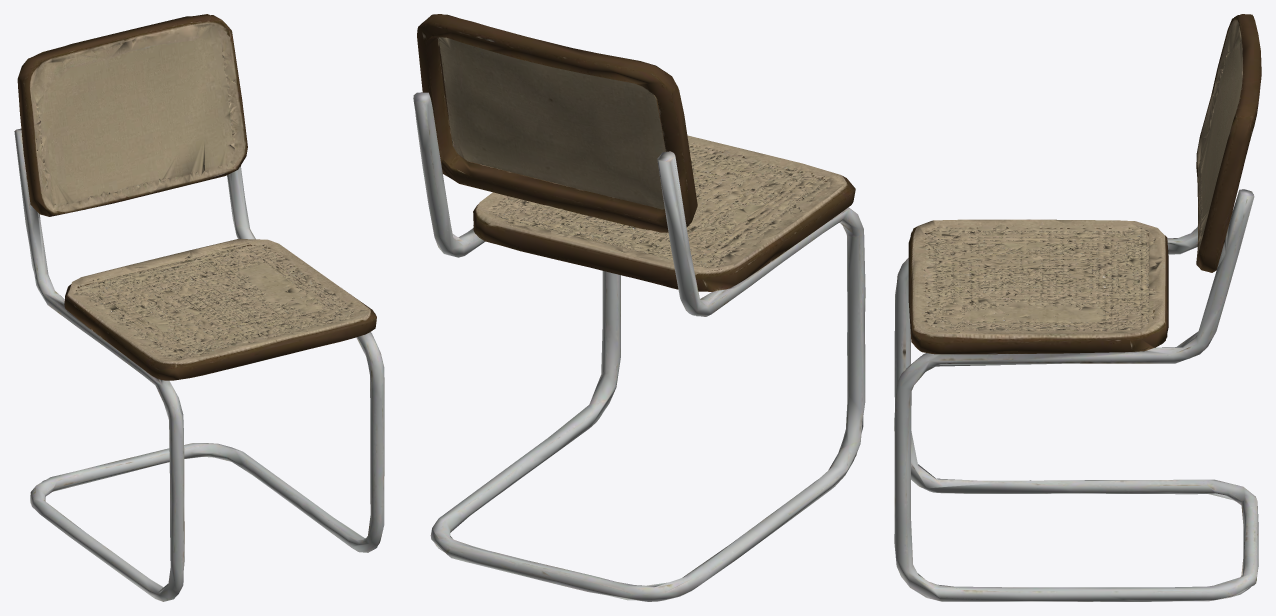
The model's file is MW-FDELQ-4CH2yfzNfCtm.glb.
3 views of the same model, side by side, from view 1: azimuth 30°, elevation 25°; view 2: azimuth 150°, elevation 25°; view 3: azimuth 270°, elevation 25° (orthographic). The views are drawn at different scales.
Visible parts, largest first — view 1: geometry_0; view 2: geometry_0; view 3: geometry_0.
Boxes of the visible parts, x1=… form: geometry_0: x1=14, y1=14, x2=384, y2=601; geometry_0: x1=413, y1=14, x2=865, y2=601; geometry_0: x1=894, y1=14, x2=1261, y2=601.
Bounding box in the file's own units: 0.5316 × 0.9991 × 0.6829.
Materials: 1 (1 with a texture image).
